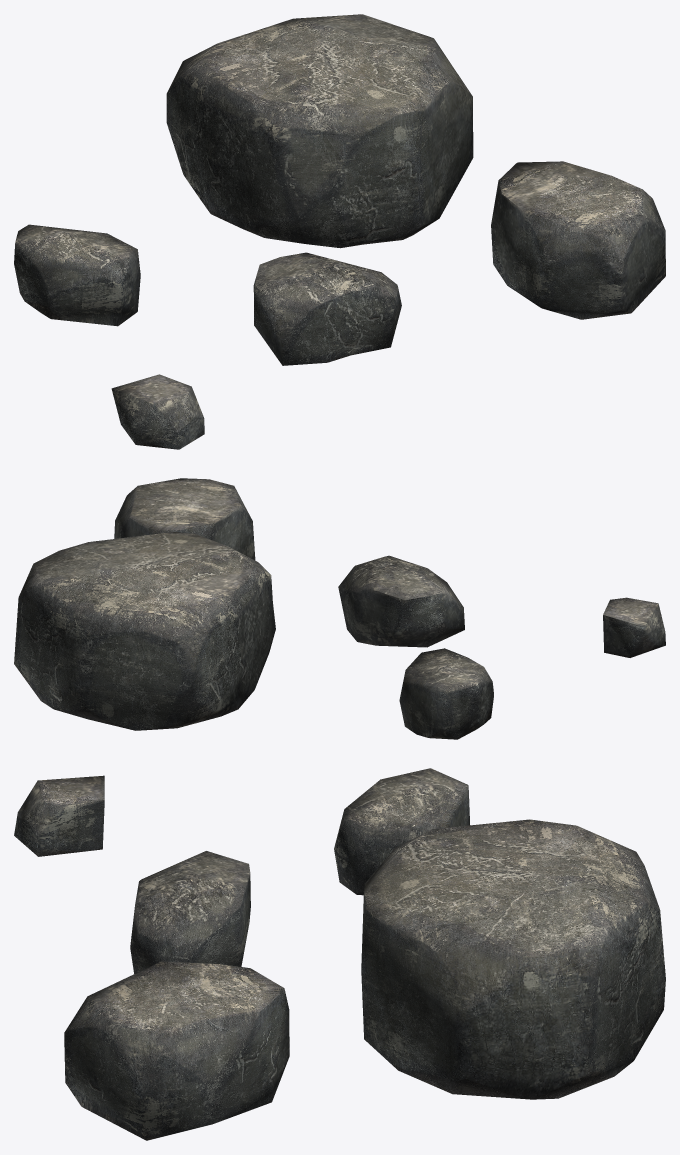
The model's file is small_rocks.glb.
The picture shows the model from 3 angles, top to bottom: view 1: azimuth 30°, elevation 25°; view 2: azimuth 150°, elevation 25°; view 3: azimuth 270°, elevation 25°; orthographic projection. The views are drawn at different scales.
Parts seen in each view (by area): view 1: smallrock5, smallrock4, smallrock3, smallrock2, smallrock1; view 2: smallrock5, smallrock3, smallrock4, smallrock2, smallrock1; view 3: smallrock5, smallrock4, smallrock3, smallrock2, smallrock1.
Boxes of the visible parts, left/top/right/bottom form: smallrock5: left=166, top=14, right=473, bottom=248; smallrock4: left=491, top=161, right=665, bottom=319; smallrock3: left=253, top=252, right=401, bottom=365; smallrock2: left=14, top=224, right=140, bottom=326; smallrock1: left=111, top=374, right=204, bottom=449; smallrock5: left=14, top=532, right=275, bottom=730; smallrock3: left=338, top=555, right=464, bottom=647; smallrock4: left=114, top=478, right=255, bottom=560; smallrock2: left=399, top=648, right=493, bottom=739; smallrock1: left=603, top=597, right=665, bottom=657; smallrock5: left=361, top=819, right=665, bottom=1099; smallrock4: left=64, top=961, right=289, bottom=1140; smallrock3: left=130, top=851, right=250, bottom=973; smallrock2: left=334, top=768, right=469, bottom=895; smallrock1: left=14, top=775, right=104, bottom=856.
Bounding box in the file's own units: 2.24 × 0.575 × 1.93.
1 material, 1 textured.
